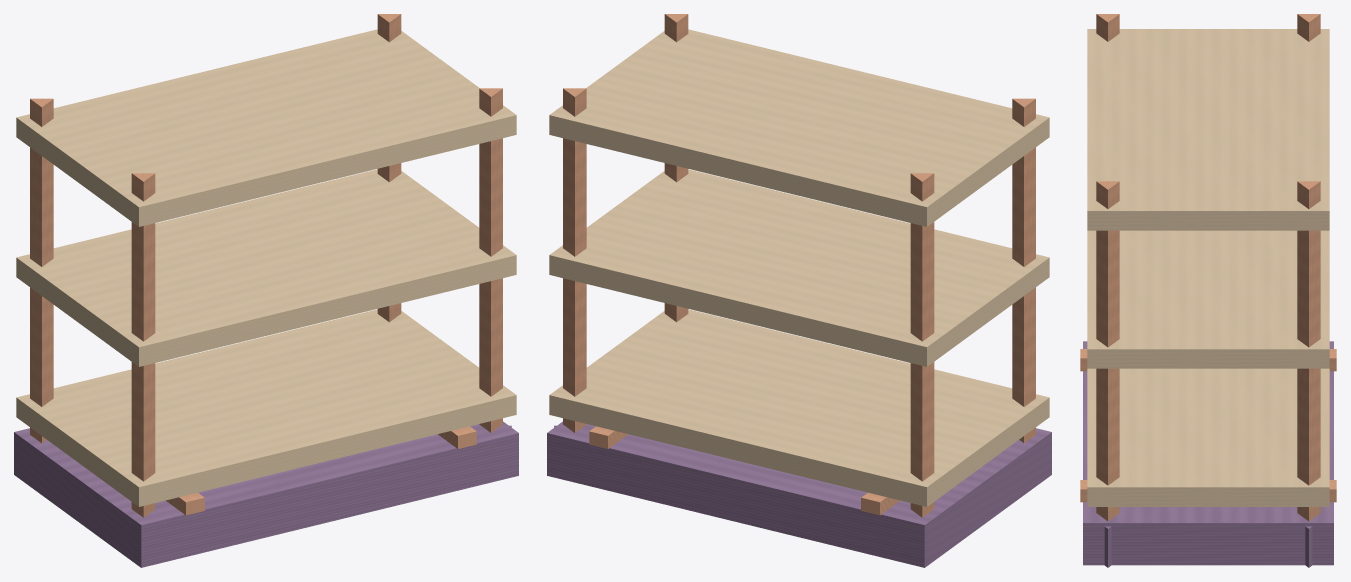
File: atlas100-s085-a06.lod2.glb
The picture shows the model from 3 angles, left to right: view 1: azimuth 30°, elevation 25°; view 2: azimuth 150°, elevation 25°; view 3: azimuth 270°, elevation 25°; orthographic projection.
Visible parts, largest first — view 1: atlas100-s085-a06:part-013, atlas100-s085-a06:part-011, atlas100-s085-a06:part-012, atlas100-s085-a06:part-000, atlas100-s085-a06:part-005, atlas100-s085-a06:part-009, atlas100-s085-a06:part-003, atlas100-s085-a06:part-007; view 2: atlas100-s085-a06:part-013, atlas100-s085-a06:part-011, atlas100-s085-a06:part-012, atlas100-s085-a06:part-000, atlas100-s085-a06:part-003, atlas100-s085-a06:part-007, atlas100-s085-a06:part-005, atlas100-s085-a06:part-009; view 3: atlas100-s085-a06:part-013, atlas100-s085-a06:part-012, atlas100-s085-a06:part-011, atlas100-s085-a06:part-000, atlas100-s085-a06:part-007, atlas100-s085-a06:part-009, atlas100-s085-a06:part-003, atlas100-s085-a06:part-005, atlas100-s085-a06:part-001, atlas100-s085-a06:part-002.
Boxes of the visible parts, bbox=[...] form: atlas100-s085-a06:part-013: bbox=[16, 29, 516, 226]; atlas100-s085-a06:part-011: bbox=[16, 309, 516, 506]; atlas100-s085-a06:part-012: bbox=[16, 169, 516, 366]; atlas100-s085-a06:part-000: bbox=[14, 421, 518, 567]; atlas100-s085-a06:part-005: bbox=[131, 173, 155, 517]; atlas100-s085-a06:part-009: bbox=[479, 88, 502, 432]; atlas100-s085-a06:part-003: bbox=[30, 98, 53, 443]; atlas100-s085-a06:part-007: bbox=[377, 14, 401, 322]; atlas100-s085-a06:part-013: bbox=[549, 29, 1049, 226]; atlas100-s085-a06:part-011: bbox=[549, 309, 1049, 506]; atlas100-s085-a06:part-012: bbox=[549, 169, 1049, 366]; atlas100-s085-a06:part-000: bbox=[547, 421, 1051, 567]; atlas100-s085-a06:part-003: bbox=[910, 173, 934, 517]; atlas100-s085-a06:part-007: bbox=[563, 88, 586, 432]; atlas100-s085-a06:part-005: bbox=[1012, 98, 1035, 443]; atlas100-s085-a06:part-009: bbox=[664, 14, 688, 322]; atlas100-s085-a06:part-013: bbox=[1087, 29, 1329, 230]; atlas100-s085-a06:part-012: bbox=[1087, 230, 1329, 368]; atlas100-s085-a06:part-011: bbox=[1087, 368, 1329, 506]; atlas100-s085-a06:part-000: bbox=[1083, 341, 1333, 565]; atlas100-s085-a06:part-007: bbox=[1297, 181, 1320, 521]; atlas100-s085-a06:part-009: bbox=[1096, 181, 1119, 521]; atlas100-s085-a06:part-003: bbox=[1297, 14, 1320, 41]; atlas100-s085-a06:part-005: bbox=[1096, 14, 1119, 41]; atlas100-s085-a06:part-001: bbox=[1080, 349, 1336, 371]; atlas100-s085-a06:part-002: bbox=[1080, 480, 1336, 502].
Size of the model in its own units: 2.43 by 2.3 by 1.43.
Materials: 3 (3 with a texture image).
